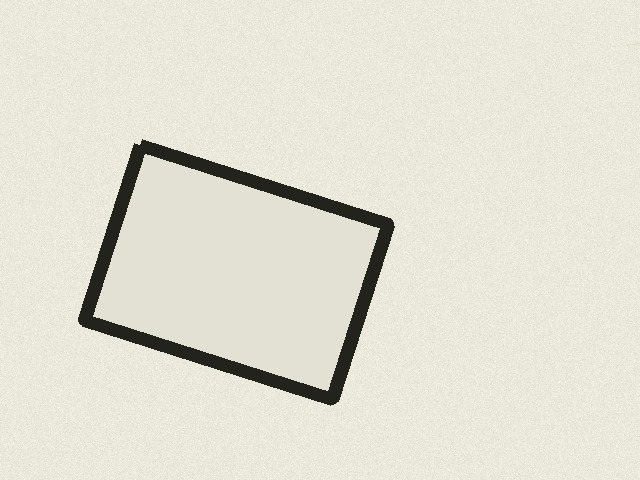parking_area: (84, 145, 388, 399)
